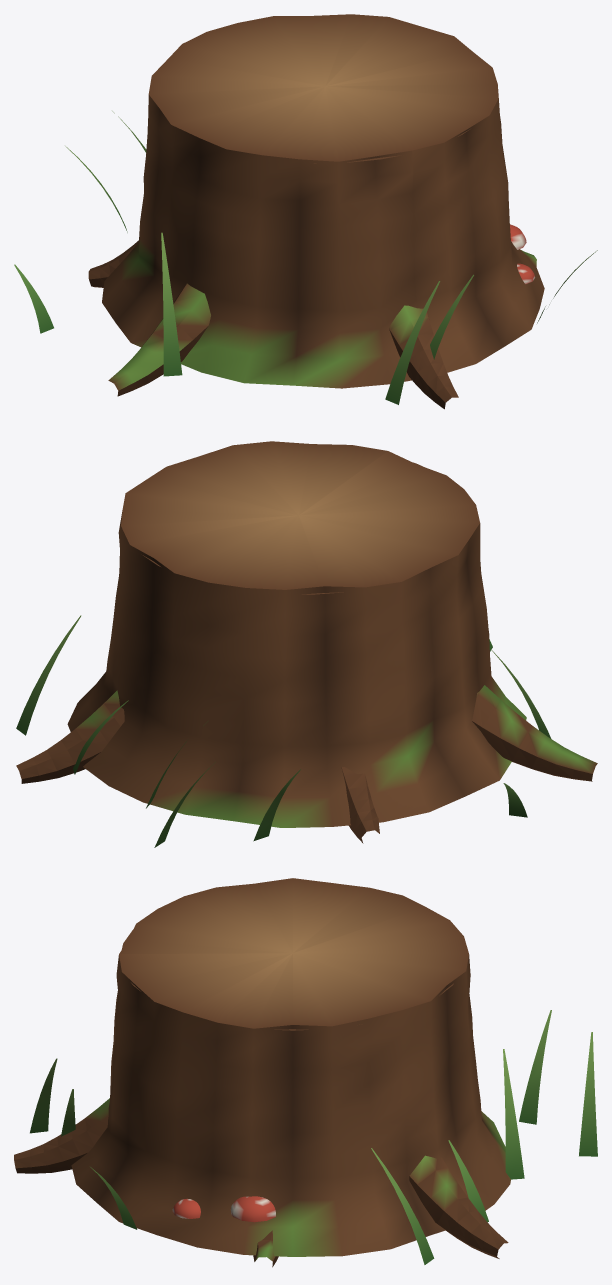
File: tocon.glb
3 views of the same model, one above another, from view 1: azimuth 30°, elevation 25°; view 2: azimuth 150°, elevation 25°; view 3: azimuth 270°, elevation 25° (orthographic). The views are drawn at different scales.
Visible parts, largest first — view 1: tocon_malla; view 2: tocon_malla; view 3: tocon_malla.
Boxes of the visible parts, x1,y1,x2,y2 form: tocon_malla: (14,14,597,409); tocon_malla: (16,441,597,847); tocon_malla: (14,878,597,1267).
Size of the model in its own units: 0.8409 by 0.3899 by 0.9116.
